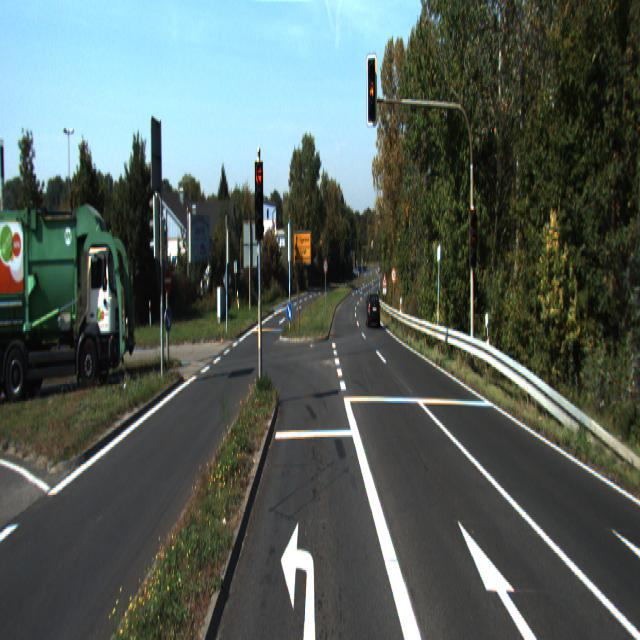Car: (0, 205, 137, 398), (366, 291, 380, 327)
